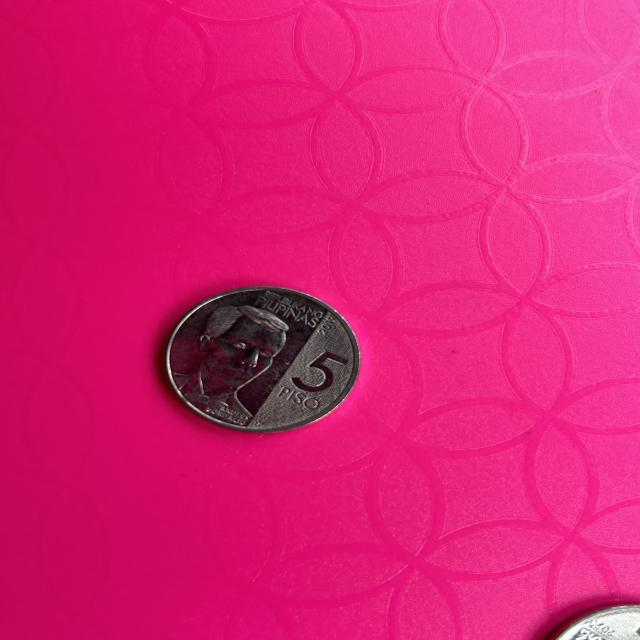5_New_Front: (268, 342, 347, 410)
